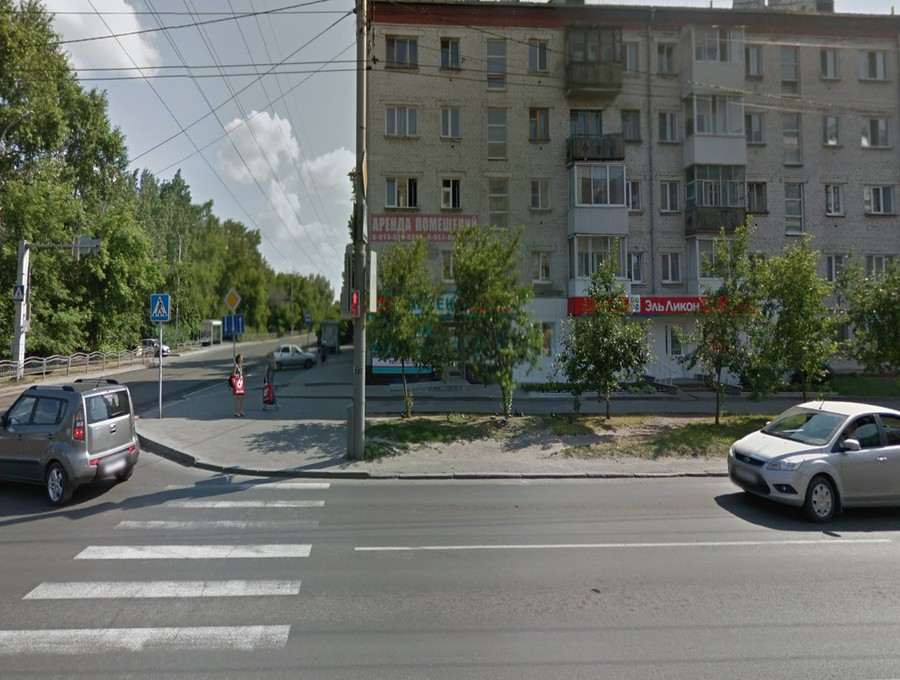Traffic Light-red: (347, 289, 365, 323)
